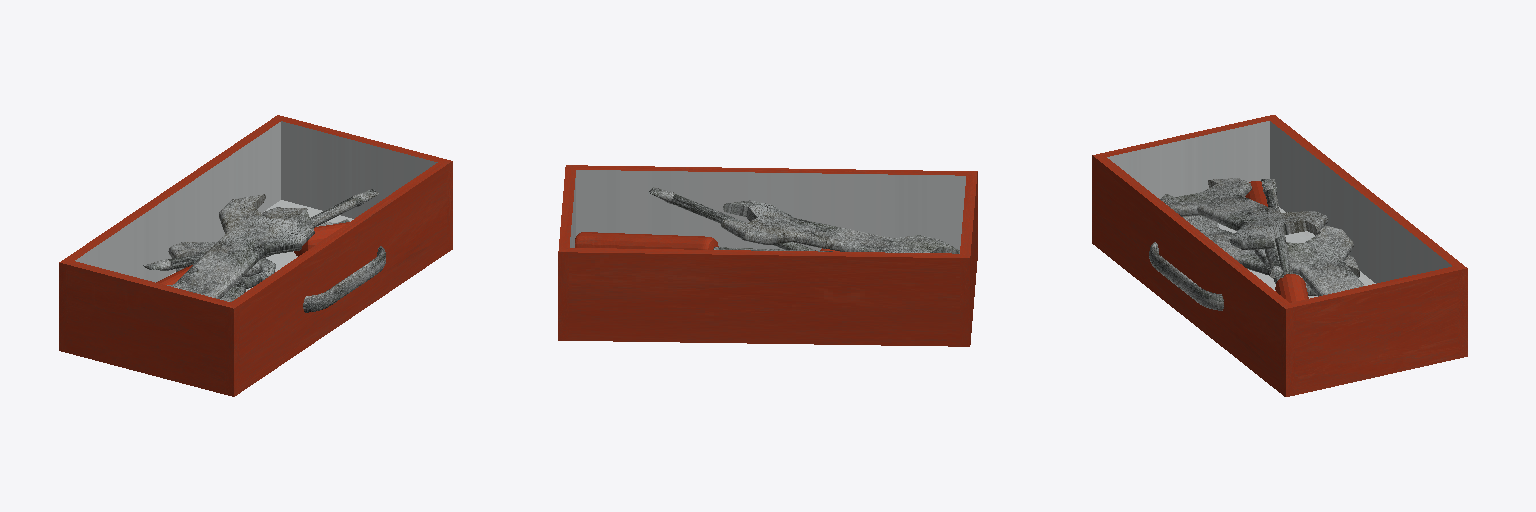
3 renders of one model, left to right at view 1: azimuth 30°, elevation 25°; view 2: azimuth 150°, elevation 25°; view 3: azimuth 270°, elevation 25°, orthographic.
Parts seen in each view (by area): view 1: polySurface53; view 2: polySurface53; view 3: polySurface53.
Part boxes in pixels (x1,y1,x2,y2): polySurface53: (59,115,452,396); polySurface53: (558,165,977,346); polySurface53: (1092,115,1467,396).
Bounding box in the file's own units: 1.69 × 0.3583 × 1.38.
4 materials, 3 textured.